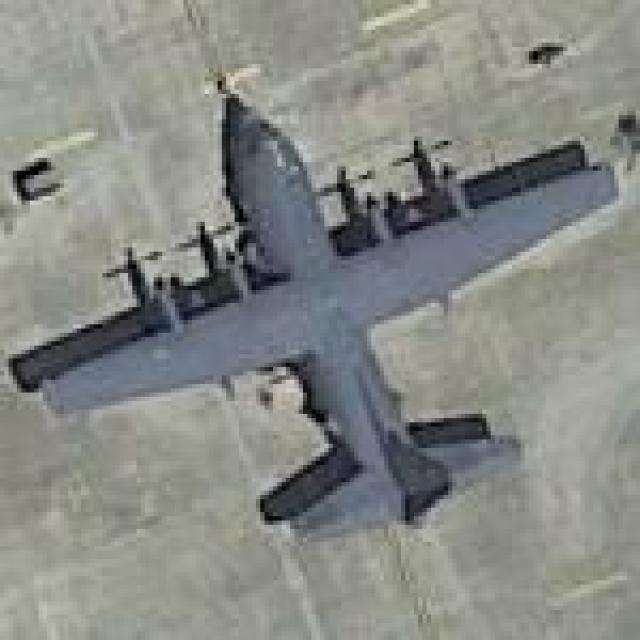C-130_TopDown: (5, 82, 621, 534)
